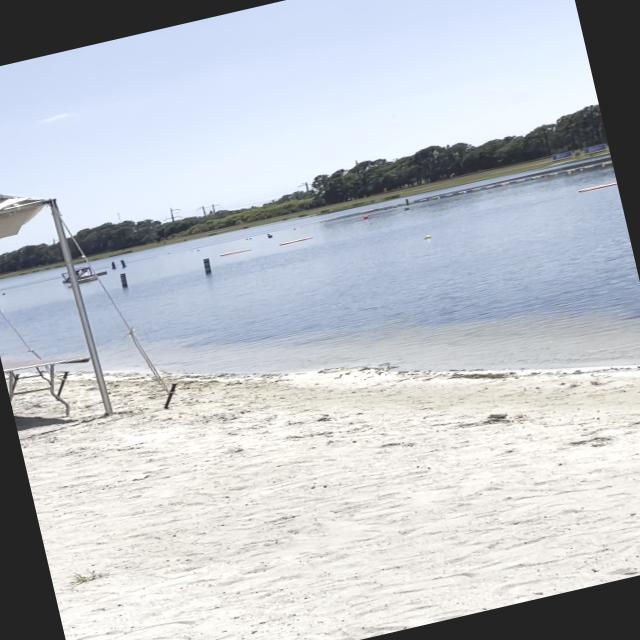buoy: (417, 232, 437, 244), (401, 202, 413, 213), (264, 230, 276, 240), (359, 212, 371, 220)
